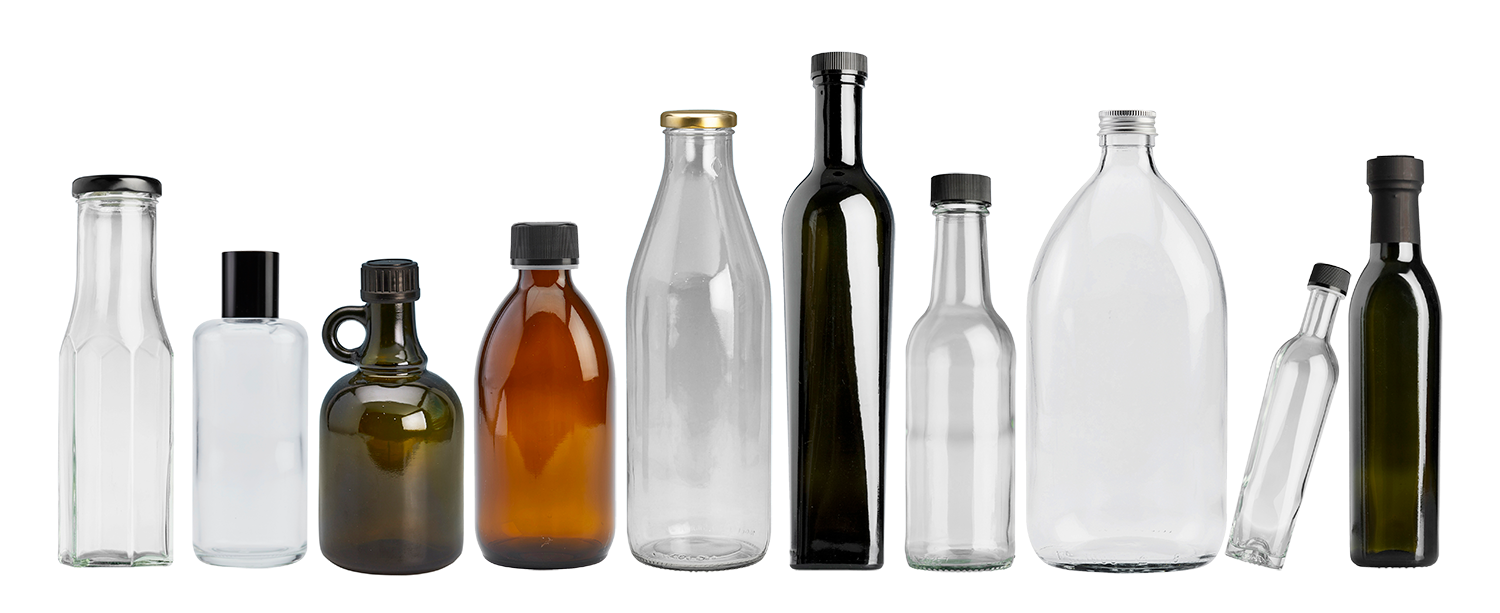glass_bottle: (1019, 99, 1227, 576), (623, 104, 777, 581), (776, 47, 894, 584), (45, 156, 178, 575), (470, 217, 620, 576), (312, 246, 467, 579), (898, 169, 1023, 581), (185, 231, 314, 571), (1349, 147, 1449, 574), (1229, 257, 1350, 563)
